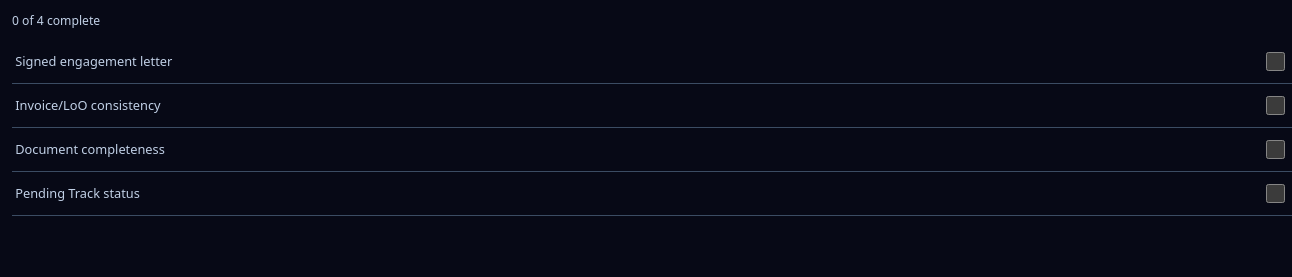
Test: CaseChecklistComponent › requires reload after a conflict and does not replace state after navigating to another case
Click the checkbox labelled "Signed engagement letter": [1276, 61] box [1266,52,1285,70]
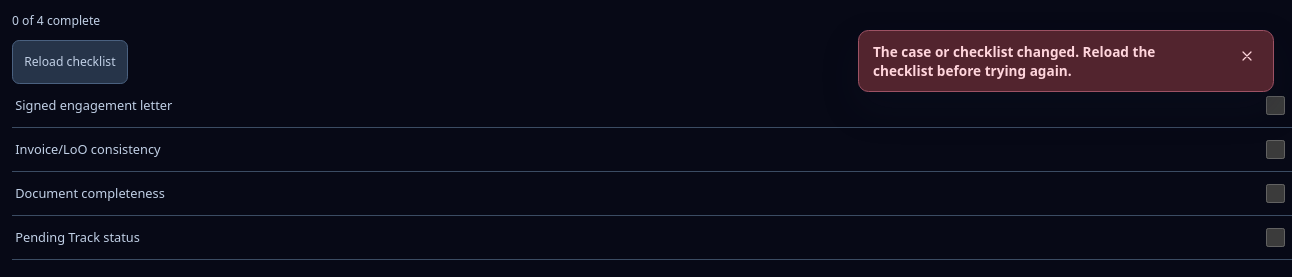
Result: the button with class "retry" is shown at [12,40,128,84]
Result: the checkbox labelled "Signed engagement letter" is disabled at [1266,96,1285,114]
